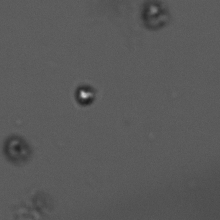Dead Cell: (3, 134, 32, 163), (142, 1, 168, 29)
Living Cell: (74, 84, 97, 107)
